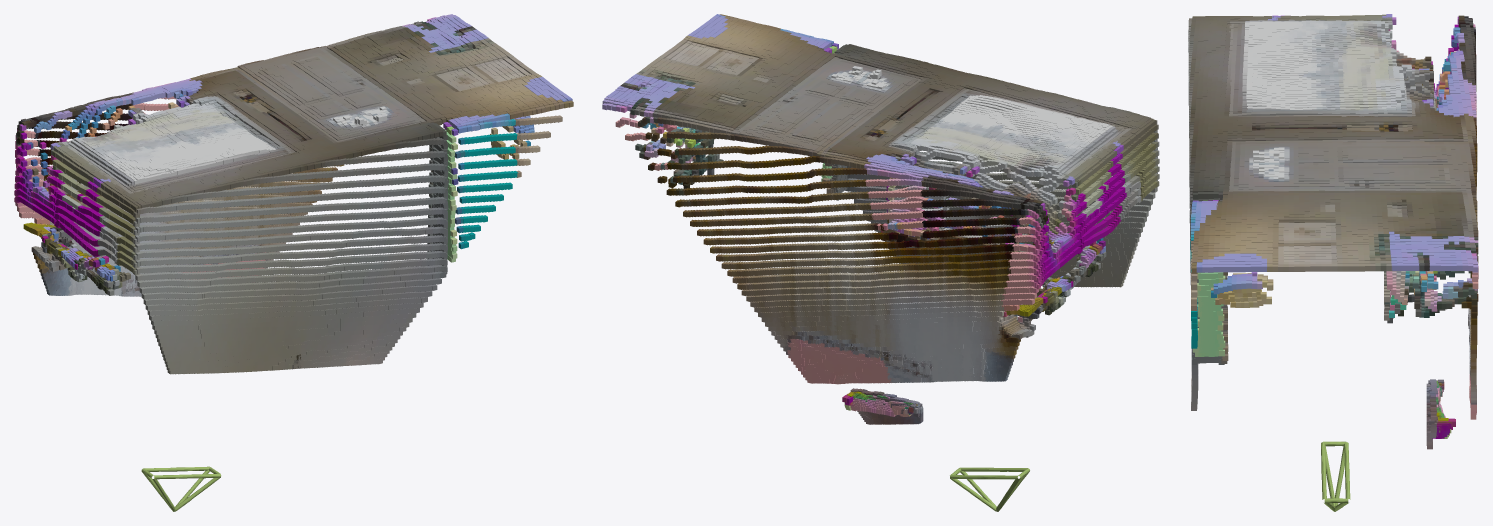
3 views of the same model, side by side, from view 1: azimuth 30°, elevation 25°; view 2: azimuth 150°, elevation 25°; view 3: azimuth 270°, elevation 25° (orthographic). The views are drawn at different scales.
Bounding box in the file's own units: 5.13 × 4.21 × 2.48.
